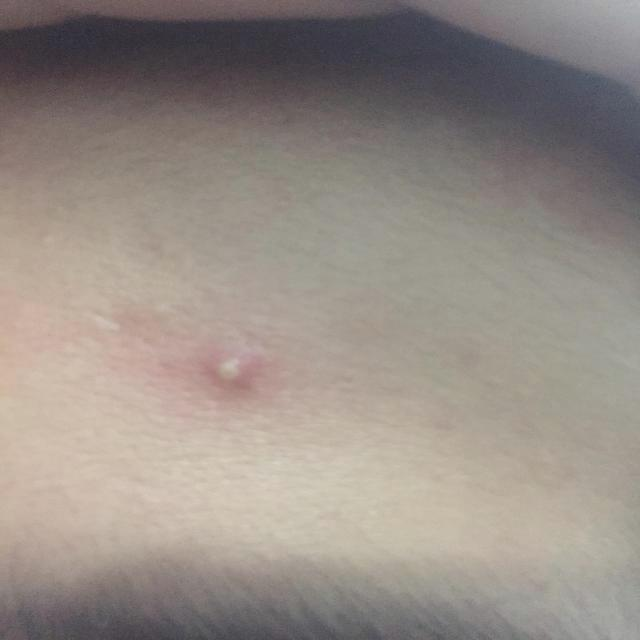Pimples: (205, 344, 261, 399)
